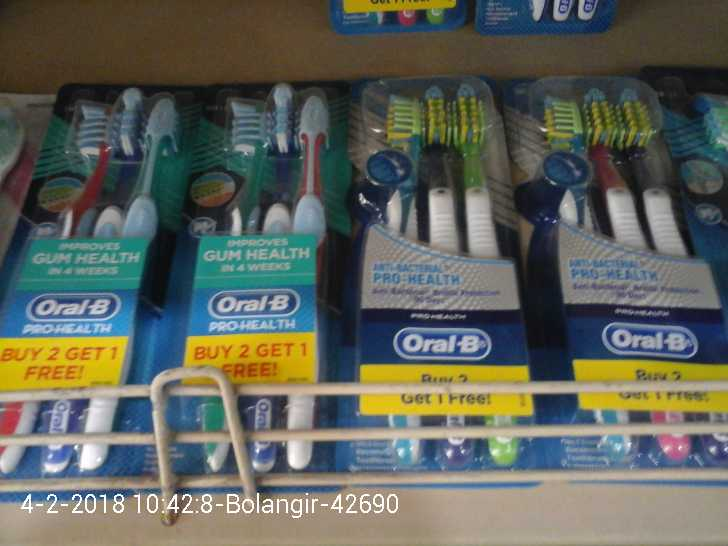oralb: (520, 70, 728, 467), (355, 64, 533, 474), (16, 74, 174, 481), (192, 76, 335, 470)
